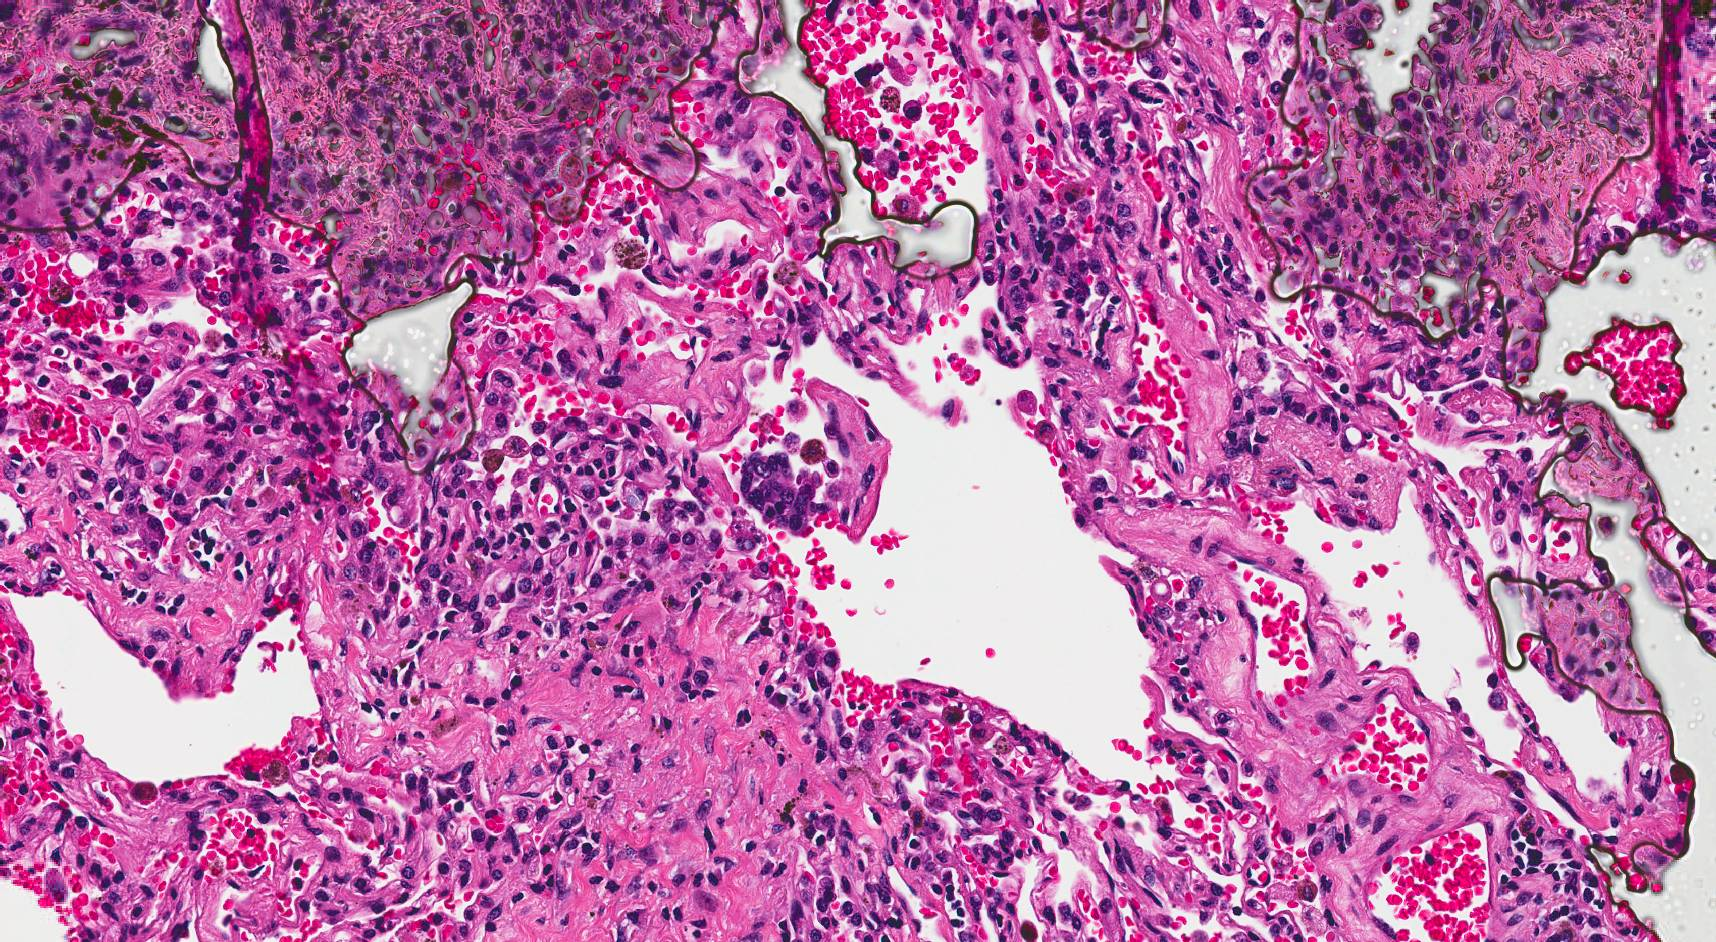stas: (739, 449, 823, 531)
